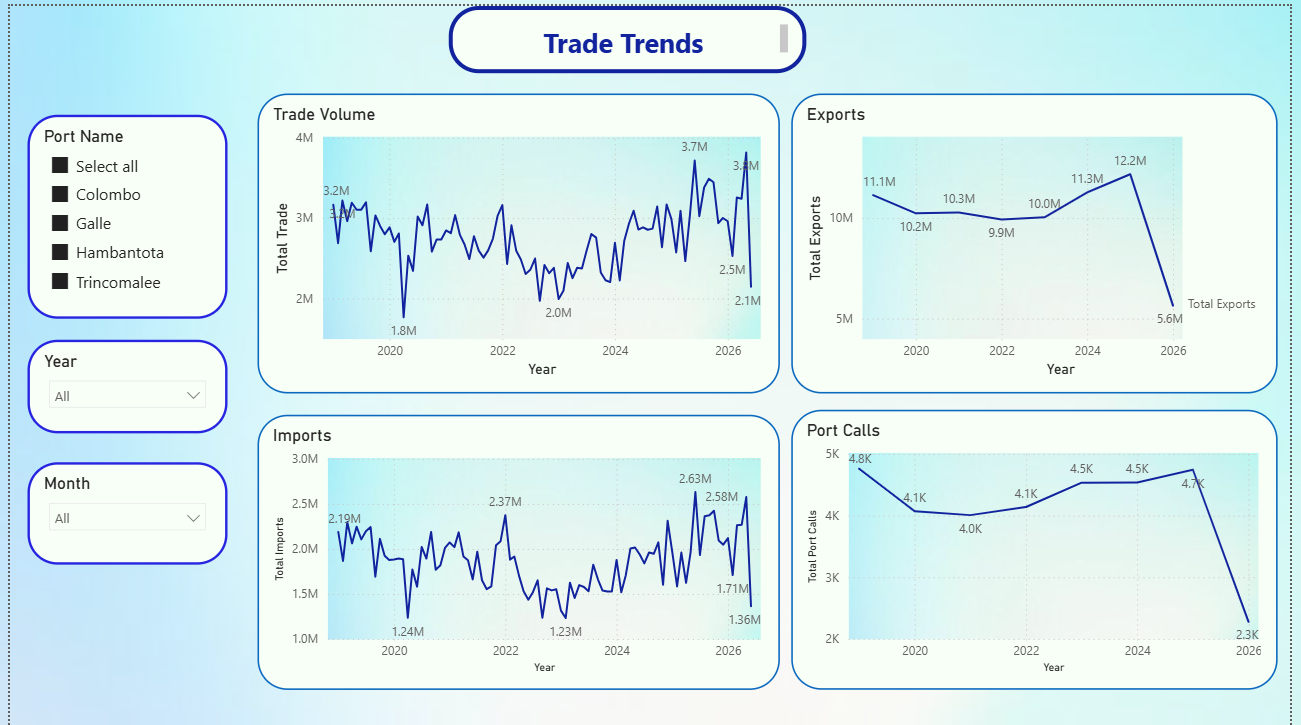

What the dashboard file says about the page in this screenshot:
{"tool":"powerbi","page":{"name":"Page 4- Trade Trends ","canvas":[1280,720],"ordinal":3},"visuals":[{"type":"textbox","box":[438.8,0,357.5,67.5],"z":0},{"type":"lineChart","title":" Trade Volume","fields":{"Y":["processed_sri_lanka_port_data.Total Trade"],"Category":["processed_sri_lanka_port_data.year_month.Variation.Date Hierarchy.Year","processed_sri_lanka_port_data.year_month.Variation.Date Hierarchy.Quarter","processed_sri_lanka_port_data.year_month.Variation.Date Hierarchy.Month","processed_sri_lanka_port_data.year_month.Variation.Date Hierarchy.Day"]},"box":[247.5,87.5,522.5,300],"z":1000},{"type":"lineChart","title":"Imports","fields":{"Y":["processed_sri_lanka_port_data.Total Imports"],"Category":["processed_sri_lanka_port_data.year_month.Variation.Date Hierarchy.Year","processed_sri_lanka_port_data.year_month.Variation.Date Hierarchy.Quarter","processed_sri_lanka_port_data.year_month.Variation.Date Hierarchy.Month","processed_sri_lanka_port_data.year_month.Variation.Date Hierarchy.Day"]},"box":[247.5,408.8,522.5,275],"z":2000},{"type":"lineChart","title":" Exports ","fields":{"Category":["processed_sri_lanka_port_data.year_month.Variation.Date Hierarchy.Year","processed_sri_lanka_port_data.year_month.Variation.Date Hierarchy.Quarter","processed_sri_lanka_port_data.year_month.Variation.Date Hierarchy.Month","processed_sri_lanka_port_data.year_month.Variation.Date Hierarchy.Day"],"Y":["processed_sri_lanka_port_data.Total Exports"]},"box":[781.2,87.5,486.2,300],"z":3000},{"type":"lineChart","title":" Port Calls ","fields":{"Category":["processed_sri_lanka_port_data.year_month.Variation.Date Hierarchy.Year","processed_sri_lanka_port_data.year_month.Variation.Date Hierarchy.Quarter","processed_sri_lanka_port_data.year_month.Variation.Date Hierarchy.Month","processed_sri_lanka_port_data.year_month.Variation.Date Hierarchy.Day"],"Y":["processed_sri_lanka_port_data.Total Port Calls"]},"box":[781.2,403.8,486.2,280],"z":4000},{"type":"slicer","title":"Port Name","fields":{"Values":["processed_sri_lanka_port_data.portname"]},"box":[17.5,108.8,200,203.8],"z":5000},{"type":"slicer","title":"Year","fields":{"Values":["processed_sri_lanka_port_data.year"]},"box":[17.5,333.8,200,93.8],"z":6000},{"type":"slicer","title":"Month","fields":{"Values":["processed_sri_lanka_port_data.month"]},"box":[17.5,456.2,200,102.5],"z":7000}]}

Visuals, with their boxes in screenshot pixels (x1, y1, x2, y2), scaled from the page's 1280x720 canvas onto the 1301x725 screenshot:
textbox: (446, 0, 809, 68)
" Trade Volume" lineChart: (252, 88, 783, 390)
"Imports" lineChart: (252, 412, 783, 689)
" Exports " lineChart: (794, 88, 1288, 390)
" Port Calls " lineChart: (794, 407, 1288, 689)
"Port Name" slicer: (18, 110, 221, 315)
"Year" slicer: (18, 336, 221, 431)
"Month" slicer: (18, 459, 221, 563)
